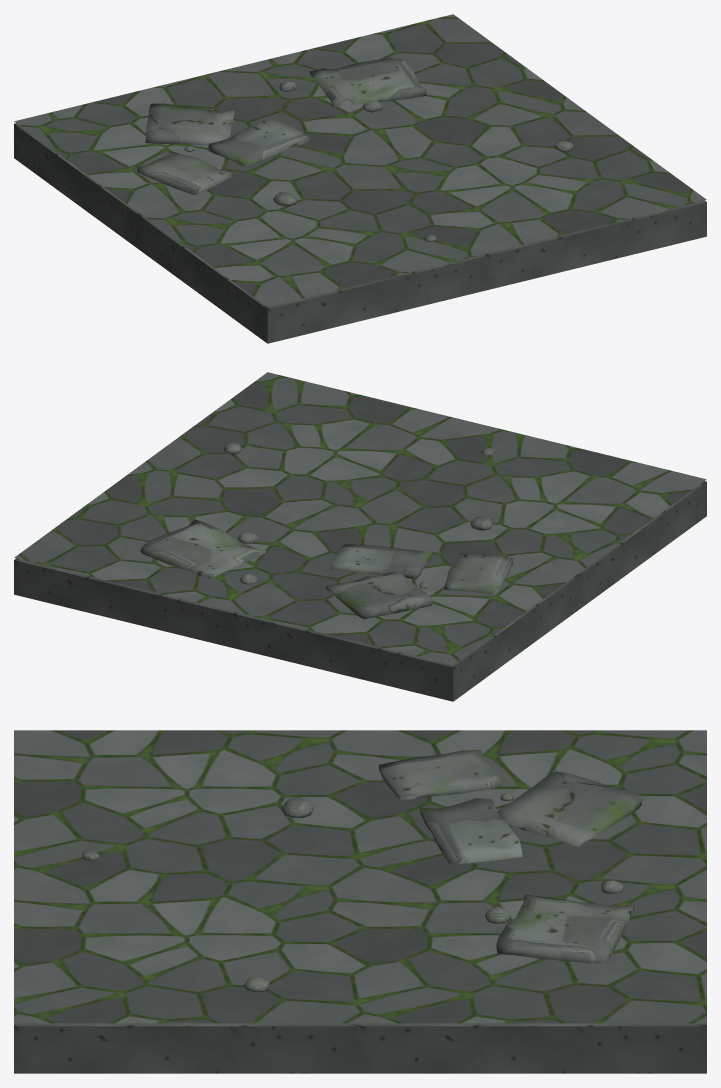
File: mod_floor_stone_4m.glb
3 views of the same model, one above another, from view 1: azimuth 30°, elevation 25°; view 2: azimuth 150°, elevation 25°; view 3: azimuth 270°, elevation 25° (orthographic). The views are drawn at different scales.
Visible parts, largest first — view 1: mod_floor_stone_4m__stone_floor, mod_floor_stone_4m__stone_dark, mod_floor_stone_4m__stone_block; view 2: mod_floor_stone_4m__stone_floor, mod_floor_stone_4m__stone_dark, mod_floor_stone_4m__stone_block; view 3: mod_floor_stone_4m__stone_floor, mod_floor_stone_4m__stone_dark, mod_floor_stone_4m__stone_block.
Part boxes in pixels (x1=…): mod_floor_stone_4m__stone_floor: x1=14, y1=14, x2=706, y2=306; mod_floor_stone_4m__stone_dark: x1=14, y1=123, x2=706, y2=343; mod_floor_stone_4m__stone_block: x1=137, y1=58, x2=573, y2=242; mod_floor_stone_4m__stone_floor: x1=14, y1=372, x2=706, y2=664; mod_floor_stone_4m__stone_dark: x1=14, y1=481, x2=706, y2=701; mod_floor_stone_4m__stone_block: x1=140, y1=443, x2=513, y2=619; mod_floor_stone_4m__stone_floor: x1=14, y1=730, x2=706, y2=1023; mod_floor_stone_4m__stone_dark: x1=14, y1=1023, x2=706, y2=1073; mod_floor_stone_4m__stone_block: x1=82, y1=749, x2=643, y2=992.
Bounding box in the file's own units: 4 × 0.3982 × 4.
3 materials, 3 textured.
